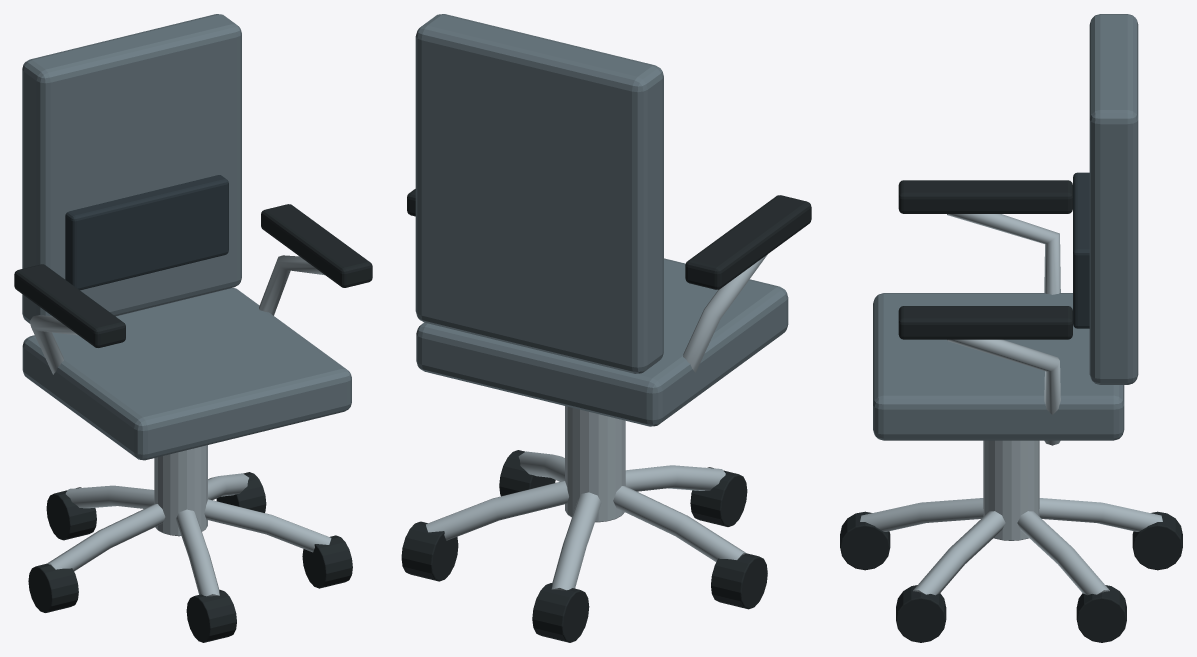
Rendered from SC_TaskChair.fbx.
3 renders of one model, left to right at view 1: azimuth 30°, elevation 25°; view 2: azimuth 150°, elevation 25°; view 3: azimuth 270°, elevation 25°, orthographic. The views are drawn at different scales.
Visible parts, largest first — view 1: SC_TaskChair; view 2: SC_TaskChair; view 3: SC_TaskChair.
Boxes of the visible parts, left/top/right/bottom form: SC_TaskChair: left=14, top=14, right=372, bottom=642; SC_TaskChair: left=401, top=14, right=811, bottom=642; SC_TaskChair: left=840, top=14, right=1182, bottom=642.
Size of the model in its own units: 65.95 by 112 by 66.86.
